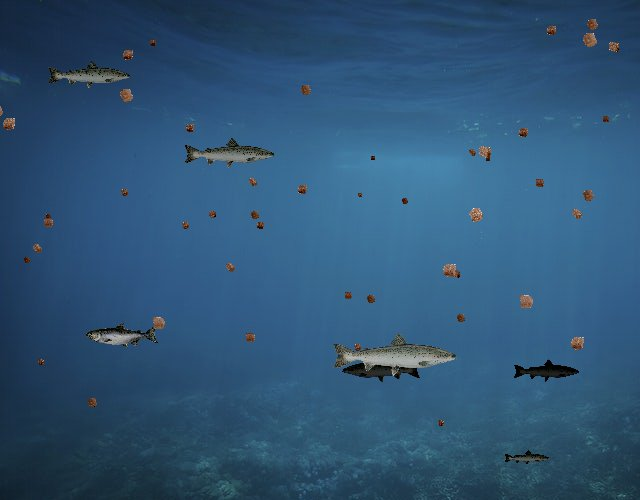Fish: (330, 331, 459, 377), (183, 137, 277, 171), (46, 59, 132, 90), (342, 354, 423, 384), (87, 322, 160, 349), (512, 359, 580, 383), (504, 449, 551, 466)
Pellet: (435, 257, 464, 286), (563, 329, 591, 357), (471, 139, 498, 166), (576, 184, 600, 208), (292, 180, 313, 201), (451, 309, 470, 328), (34, 355, 48, 369)
